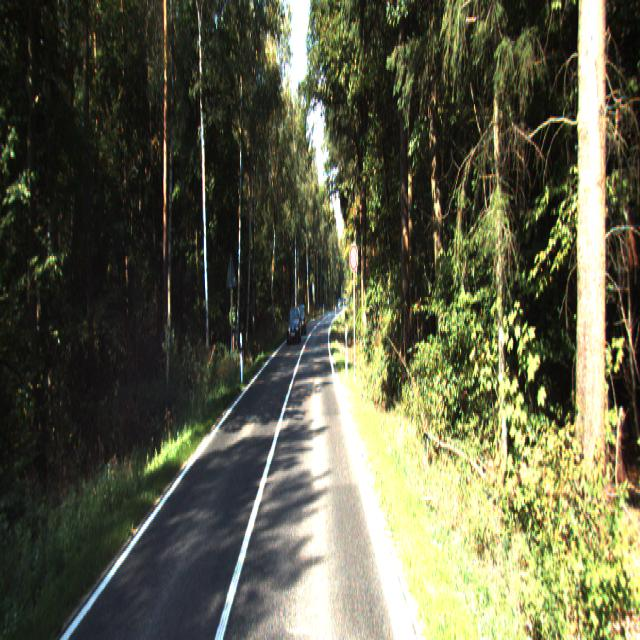Car: (286, 306, 302, 346)
